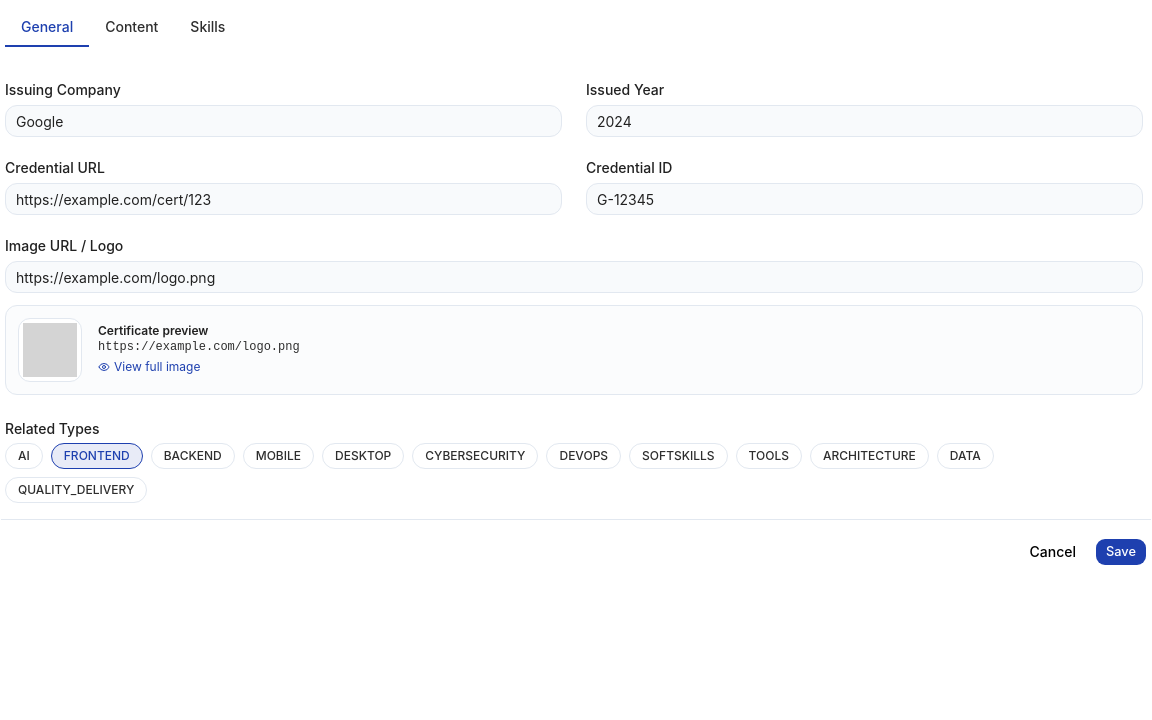
it: CertificationForm › navigates to Content tab and renders AdminFormLanguageBar and translation fields
Click the tab "Content" at (132, 27), box [89,7,174,47]
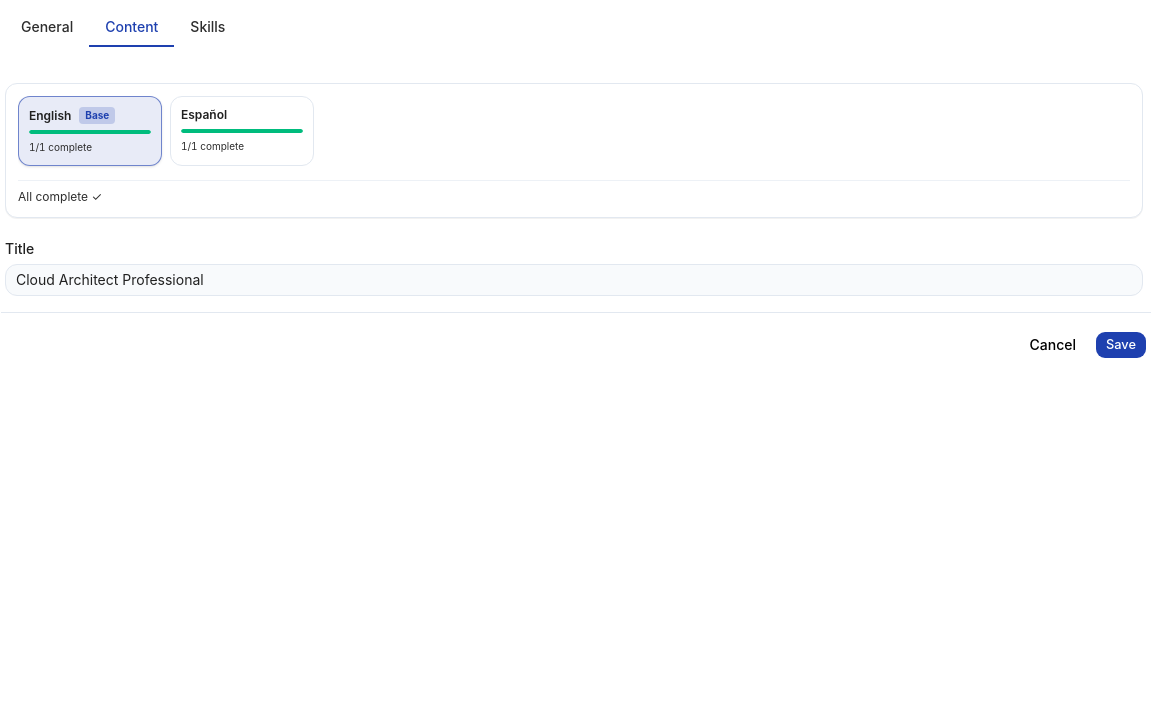
Expected: the text "English" is shown, [29,108,71,124]
Expected: the text "Español" is shown, [181,107,227,123]
Expected: the field showing "Cloud Architect Professional" is shown, [5,264,1143,296]
